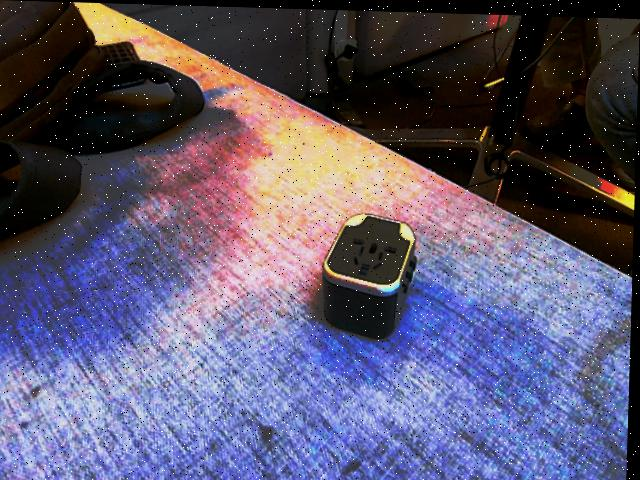adapter: (321, 209, 419, 338)
